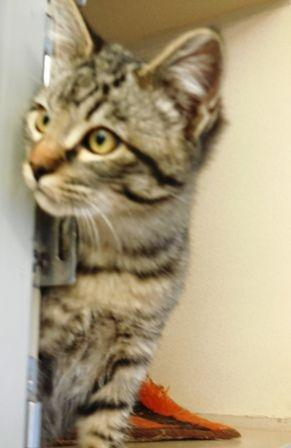bengal: (1, 1, 237, 227)
